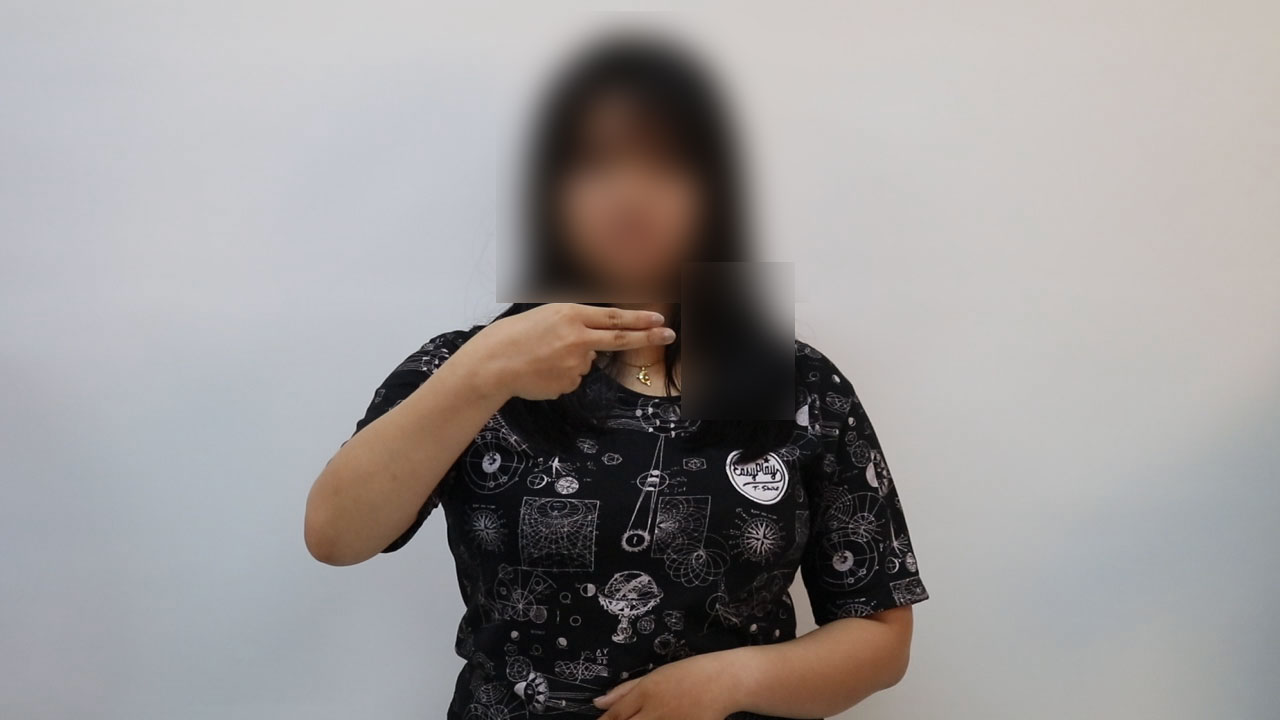hor: (453, 288, 690, 413)
